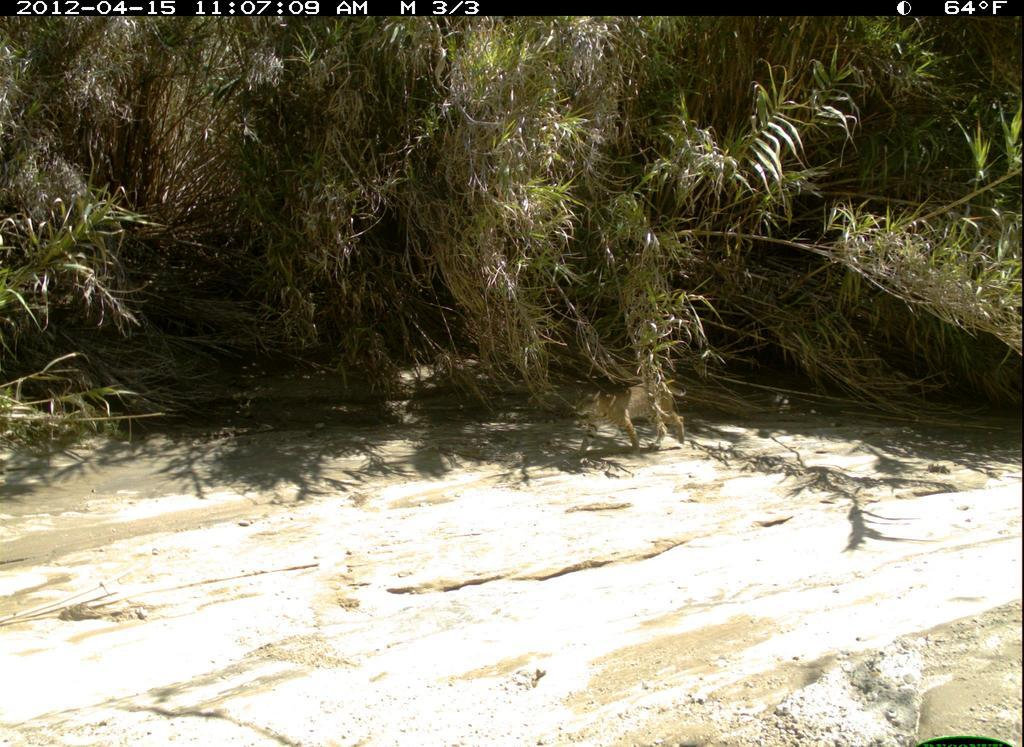bobcat: (565, 377, 692, 475)
